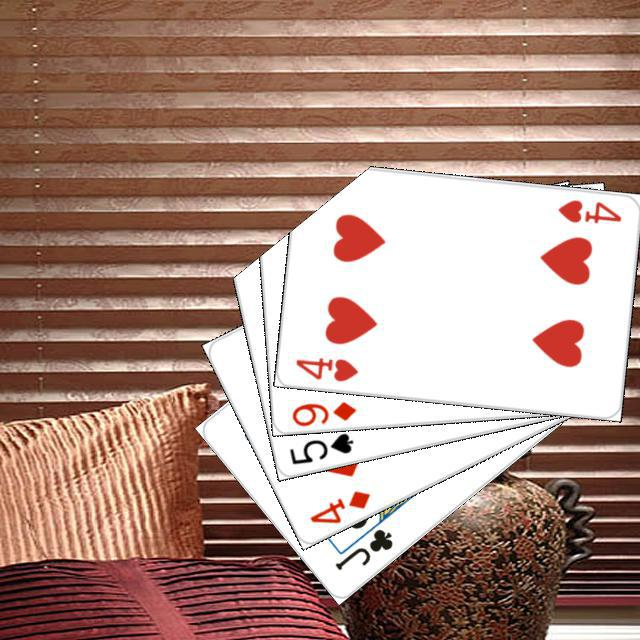4d: (305, 485, 372, 526)
4h: (290, 352, 360, 384), (553, 194, 623, 225)
5s: (284, 428, 355, 466)
9d: (287, 397, 358, 427)
Jc: (330, 523, 395, 572)
